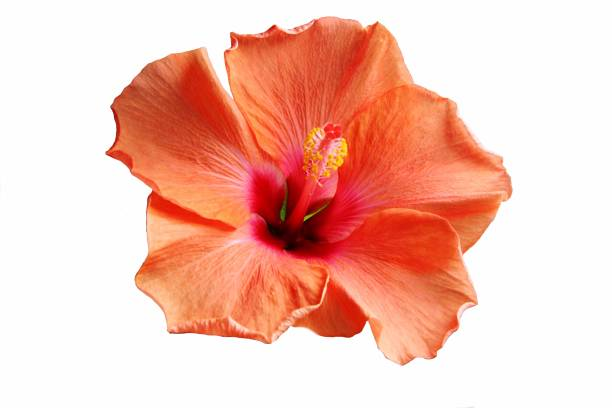Hibiscus: (118, 14, 548, 408)
